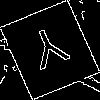Y: (24, 24, 76, 79)
